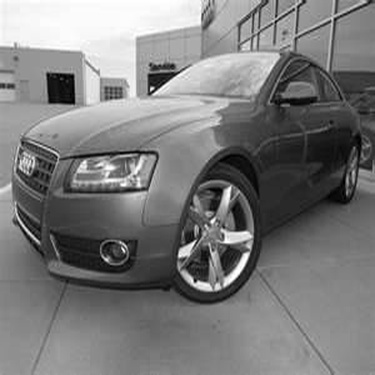car: (12, 42, 365, 309), (351, 78, 373, 173)
